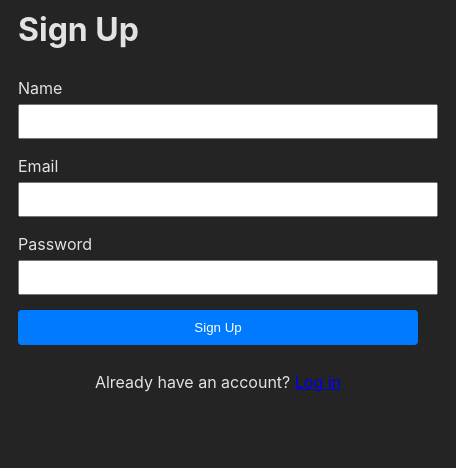
Test: SignupPage › should display generic error for server errors
In the field labelled "Name": [228, 121] box x1=18 y1=104 x2=438 y2=139, type "Test User"
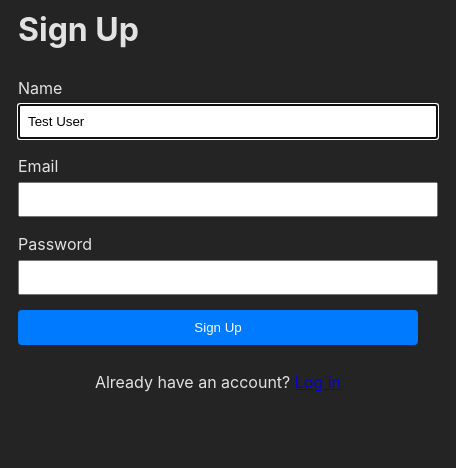
In the field labelled "Email": [228, 199] box x1=18 y1=182 x2=438 y2=217, type "test@example.com"
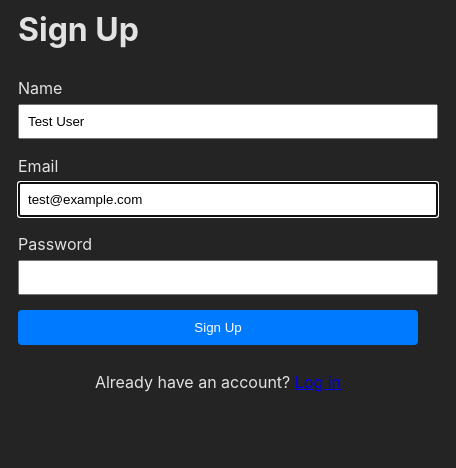
In the password field labelled "Password": [228, 277] box x1=18 y1=260 x2=438 y2=295, type "Password123!"
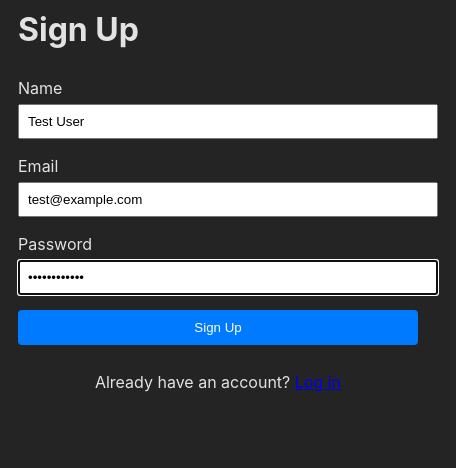
Click the button "Sign Up": [218, 327] box x1=18 y1=310 x2=418 y2=345
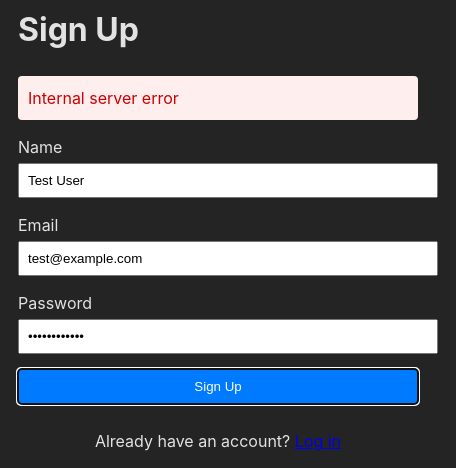
Check: the text "Internal server error" is shown, box x1=18 y1=76 x2=418 y2=120
